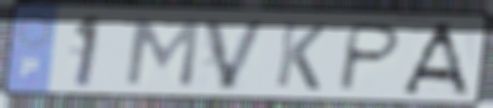1: (71, 14, 104, 91)
A: (398, 20, 473, 99)
K: (272, 19, 331, 93)
M: (121, 17, 204, 90)
P: (334, 21, 406, 94)
V: (201, 17, 271, 92)
